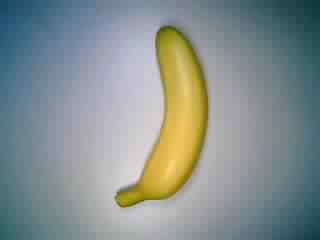banana: (111, 23, 213, 212)
